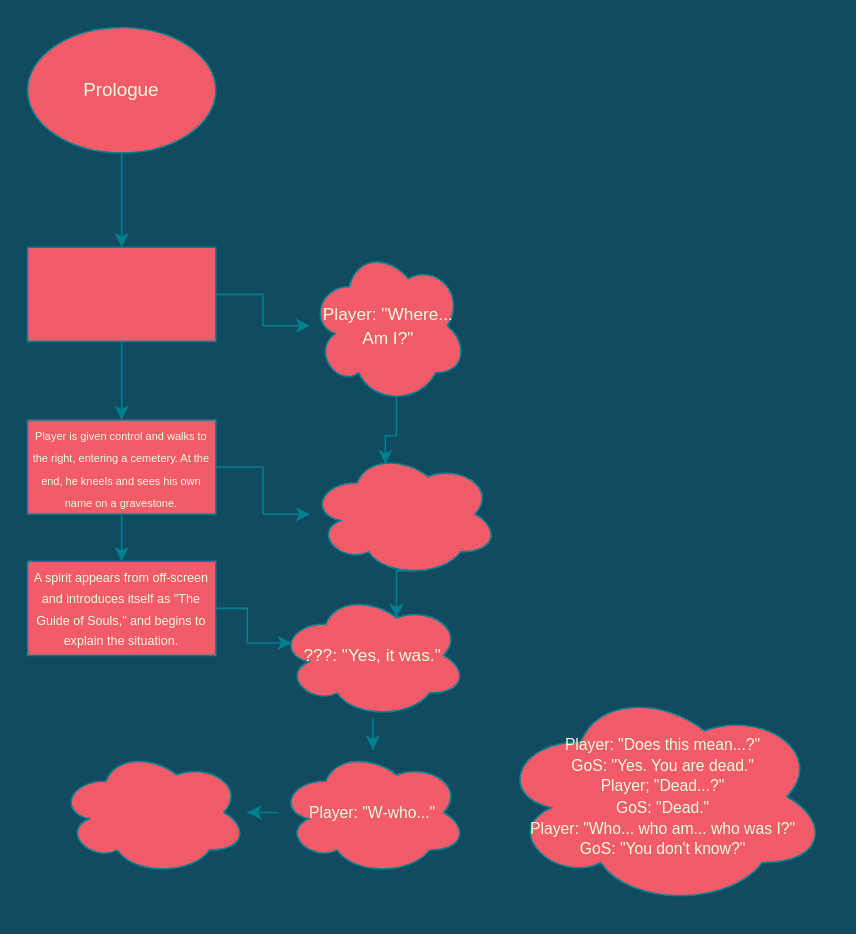
The diagram is 856 pixels wide and 934 high, and some of its shapes have lost their labels. Each missing label, with the centre of its shape:
GoS: "I am merely a humble guide, for souls such as yourself.": pixel 152 811
Player: "Is this...": pixel 403 513
The player wakes up and looks around, confused.: pixel 121 293
